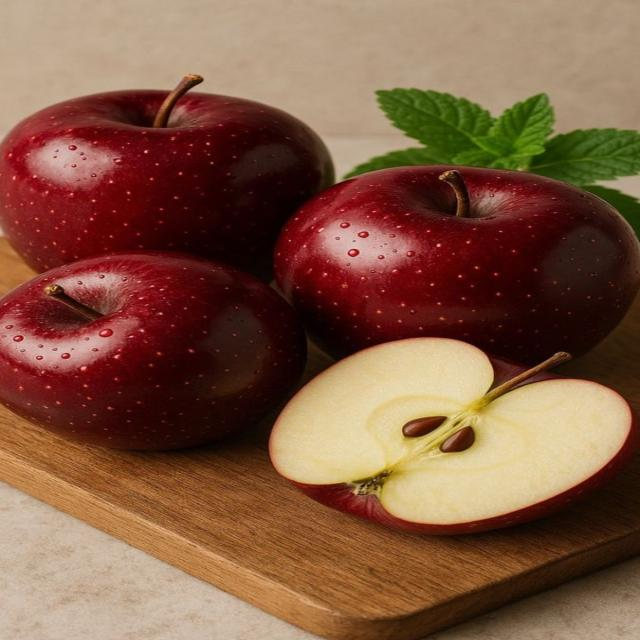apple: (271, 338, 639, 534), (275, 166, 639, 362), (0, 76, 332, 275), (0, 252, 305, 449)
